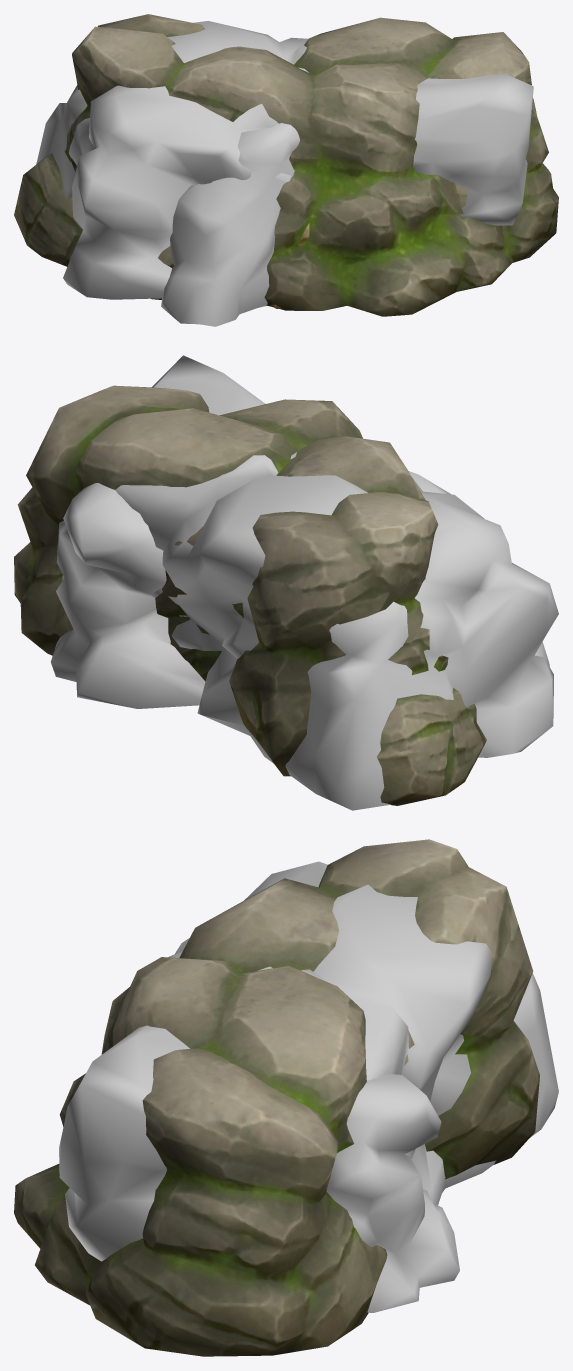
The model's file is rock04.fbx.
3 renders of one model, top to bottom at view 1: azimuth 30°, elevation 25°; view 2: azimuth 150°, elevation 25°; view 3: azimuth 270°, elevation 25°, orthographic. The views are drawn at different scales.
Visible parts, largest first — view 1: cliff_rock_4_LOD0, cliffrock_5_LOD0, cliffrock_1_LOD0; view 2: cliff_rock_4_LOD0, cliffrock_5_LOD0, cliffrock_1_LOD0; view 3: cliff_rock_4_LOD0, cliffrock_5_LOD0, cliffrock_1_LOD0.
Part boxes in pixels (x1,y1,x2,y2): cliff_rock_4_LOD0: (14, 14, 558, 316); cliffrock_5_LOD0: (36, 21, 533, 299); cliffrock_1_LOD0: (161, 123, 299, 326); cliff_rock_4_LOD0: (14, 385, 486, 805); cliffrock_5_LOD0: (115, 355, 558, 810); cliffrock_1_LOD0: (51, 471, 549, 708); cliff_rock_4_LOD0: (14, 839, 539, 1356); cliffrock_5_LOD0: (59, 861, 558, 1261); cliffrock_1_LOD0: (168, 951, 459, 1312).
Bounding box in the file's own units: 8.32 × 3.65 × 6.51.
